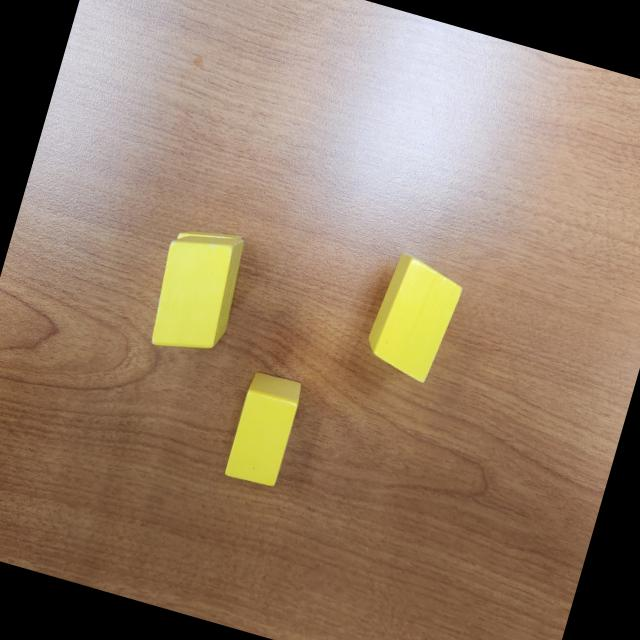yellow: (142, 220, 252, 364), (359, 248, 468, 385), (223, 369, 304, 489), (172, 217, 243, 257)
